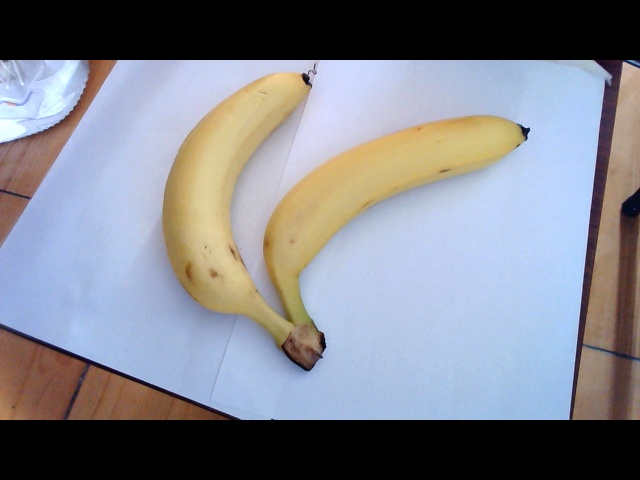banana: (264, 99, 525, 339), (162, 61, 285, 341)
